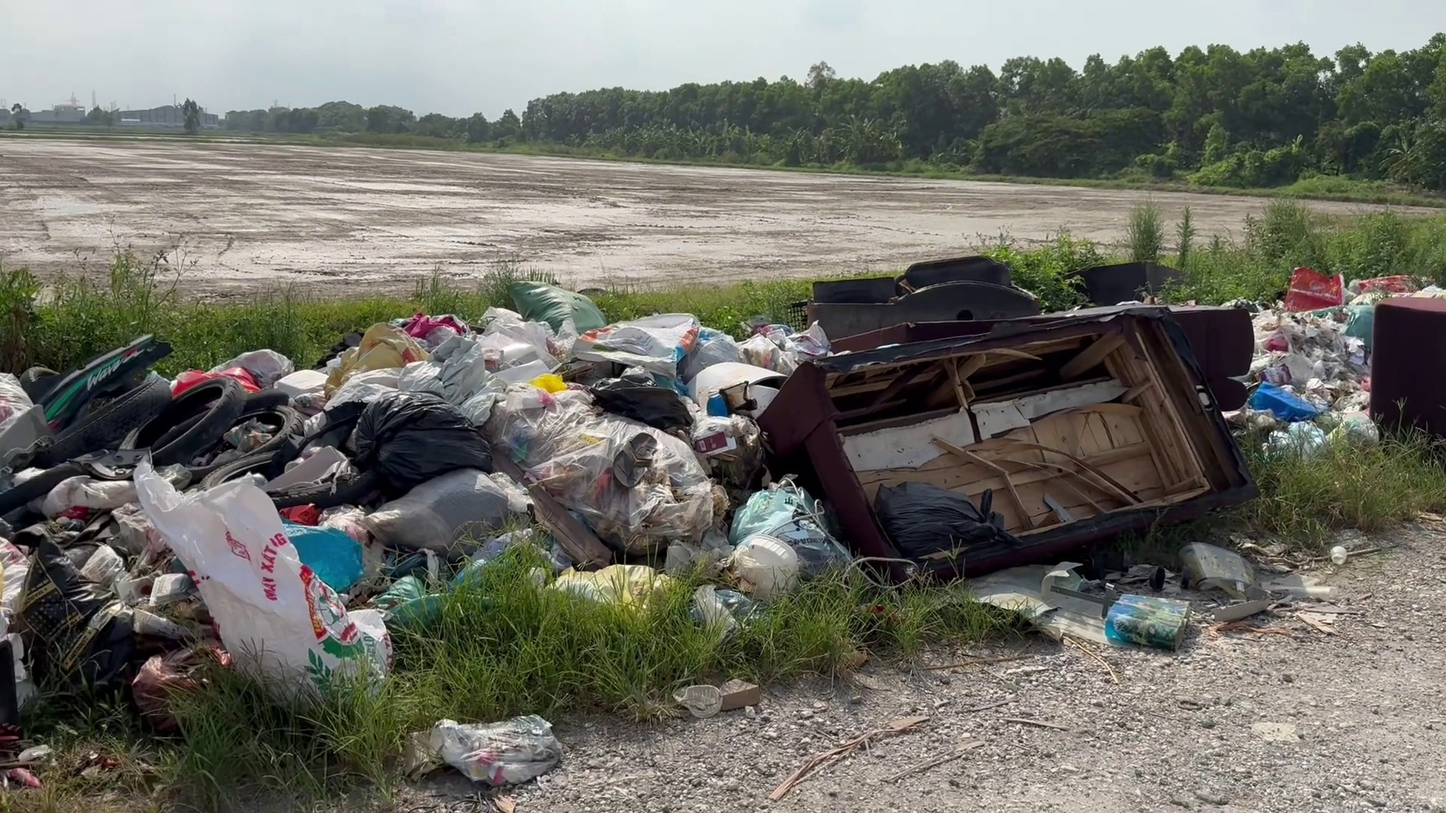garbage: (9, 763, 46, 788)
